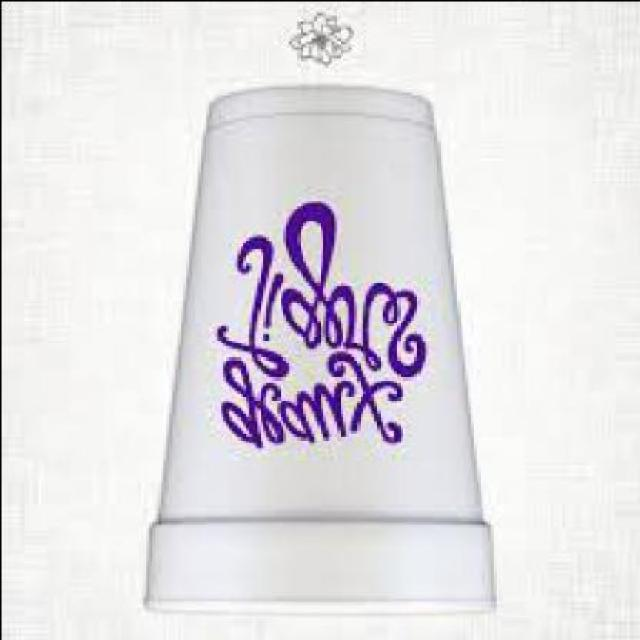PAPER: (142, 88, 489, 620)
